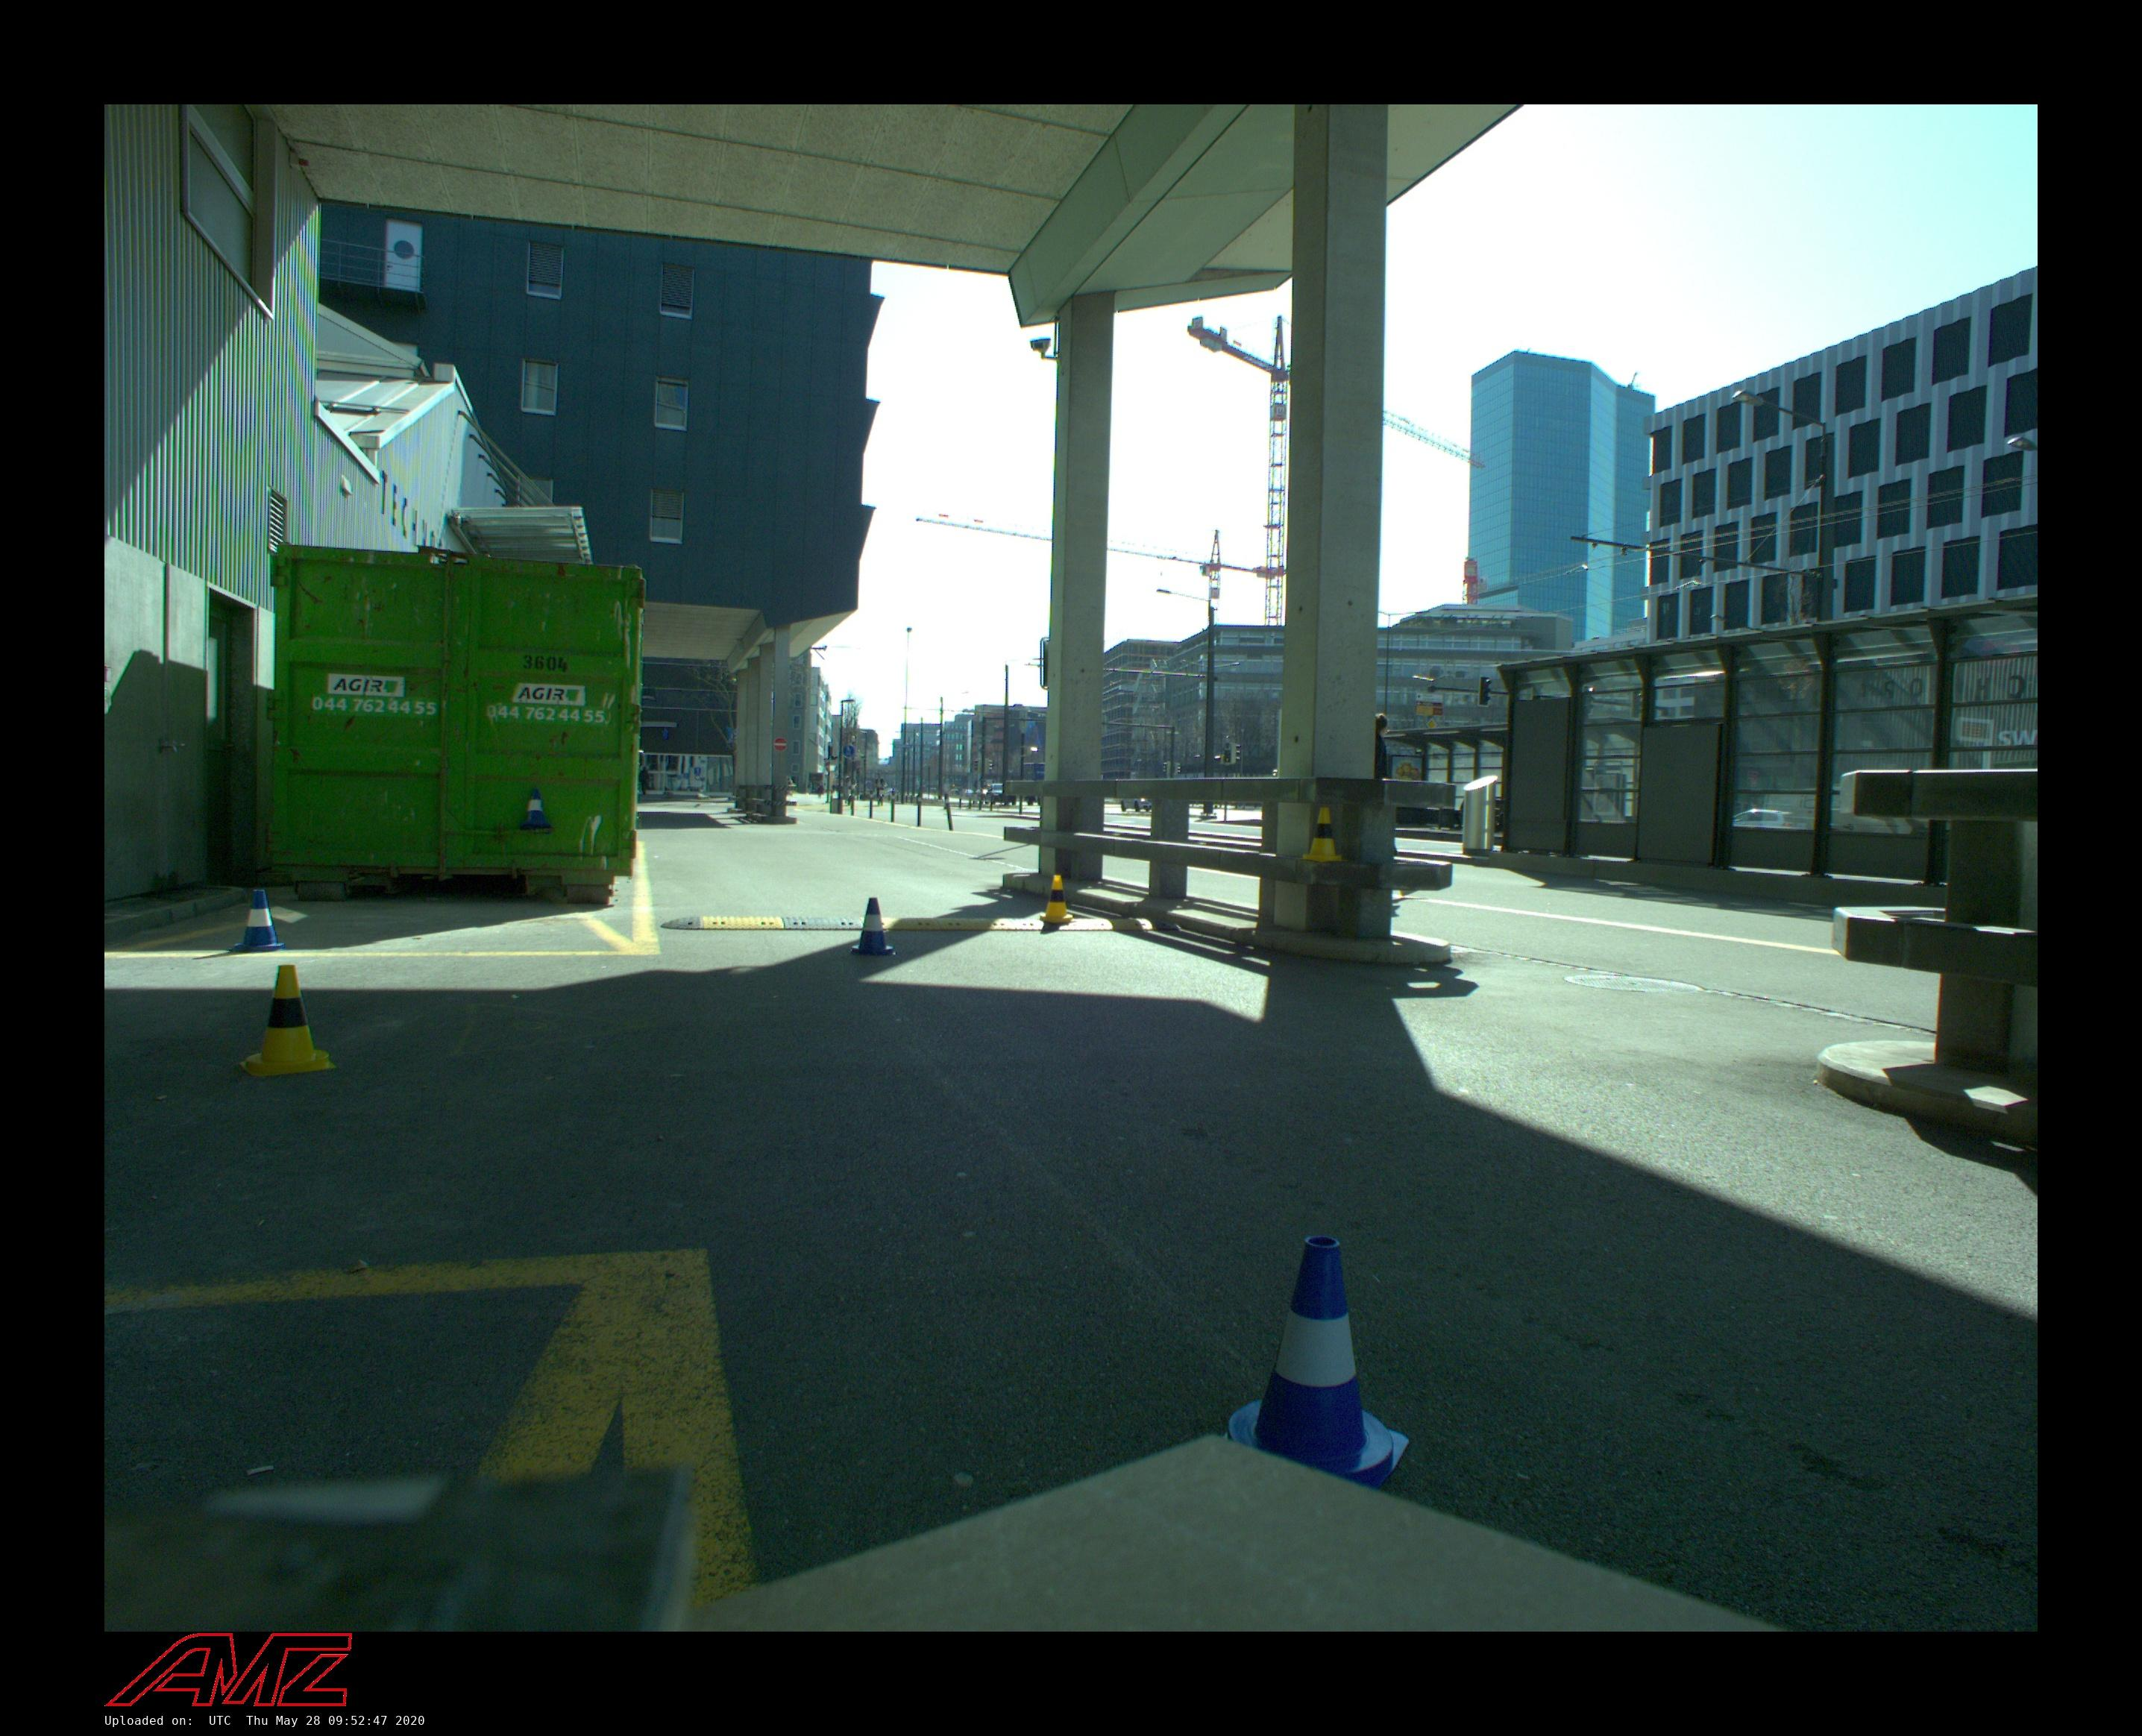blue_cone: (1219, 1233, 1409, 1486), (234, 887, 283, 953), (850, 896, 893, 957), (523, 788, 549, 827)
yellow_cone: (239, 964, 338, 1075), (1302, 806, 1341, 863), (1040, 875, 1072, 921)
